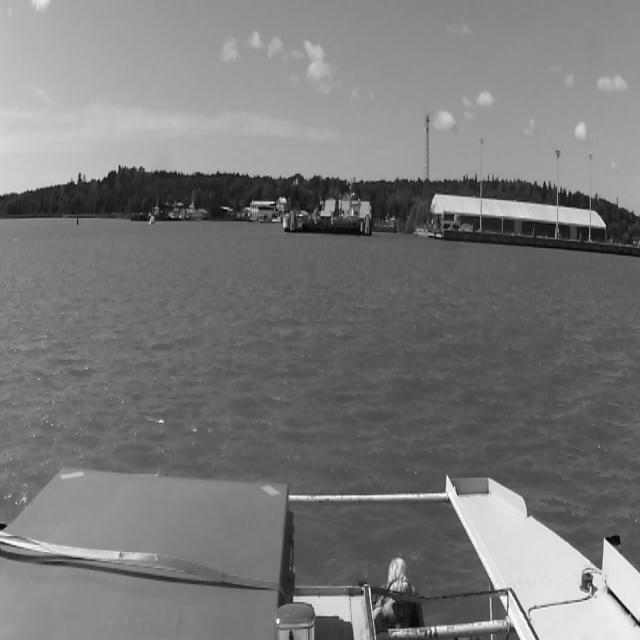buoy: (76, 212, 78, 226)
ship: (148, 215, 154, 226)
